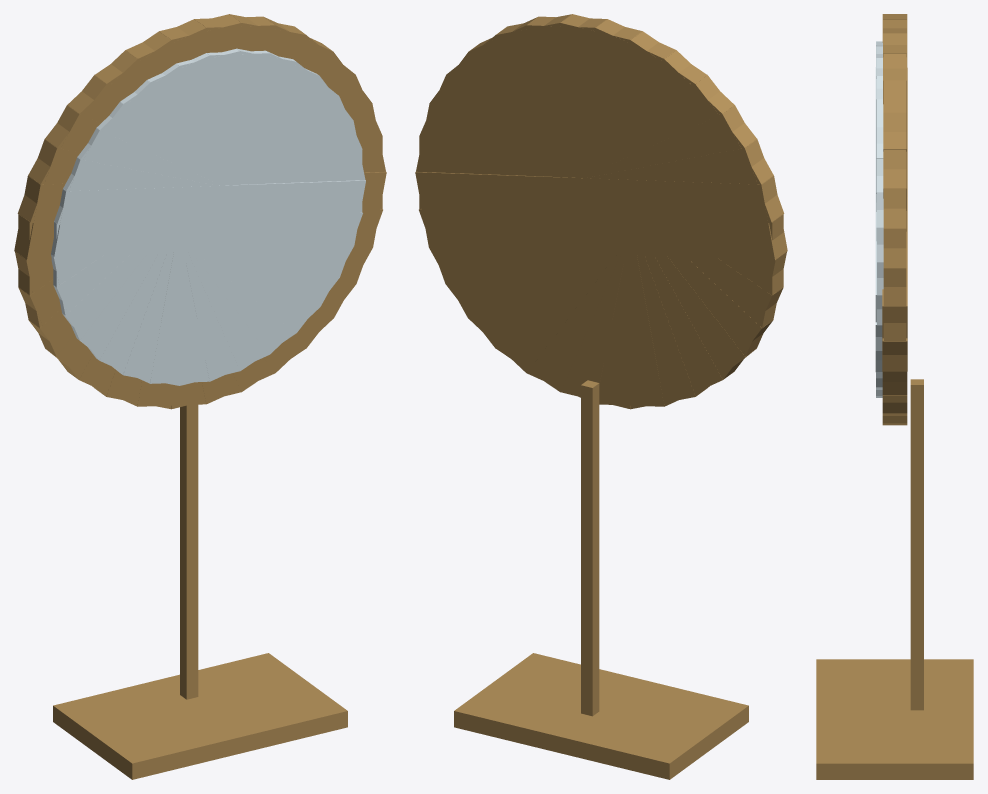
The model's file is mirror_round.glb.
The picture shows the model from 3 angles, left to right: view 1: azimuth 30°, elevation 25°; view 2: azimuth 150°, elevation 25°; view 3: azimuth 270°, elevation 25°; orthographic projection.
Parts seen in each view (by area): view 1: mirror_round; view 2: mirror_round; view 3: mirror_round.
Boxes of the visible parts, x1=… form: mirror_round: x1=14, y1=14, x2=386, y2=779; mirror_round: x1=415, y1=14, x2=787, y2=779; mirror_round: x1=816, y1=14, x2=973, y2=779.
Bounding box in the file's own units: 0.9178 × 1.71 × 0.35.
